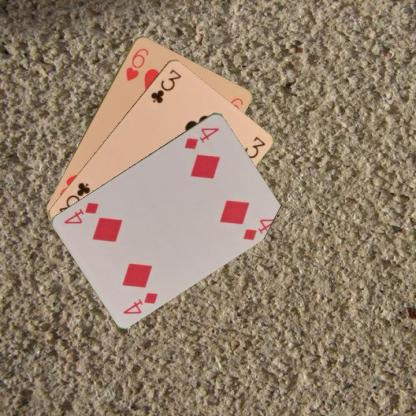3c: (148, 66, 182, 104)
4d: (120, 289, 160, 315), (182, 124, 220, 150)
6h: (123, 45, 150, 82)
